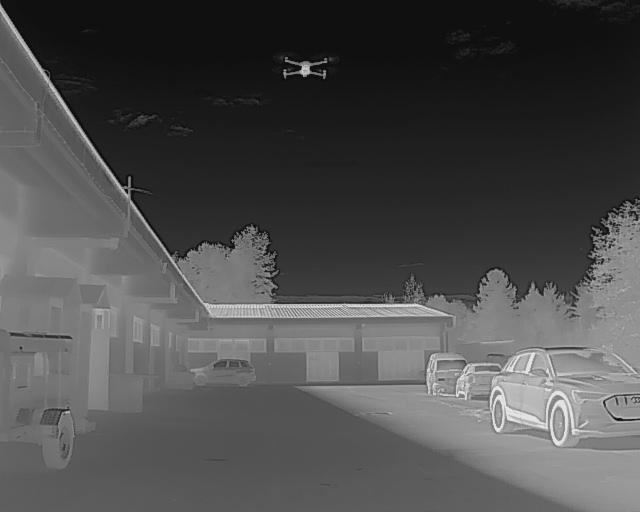drone: (267, 48, 341, 86)
